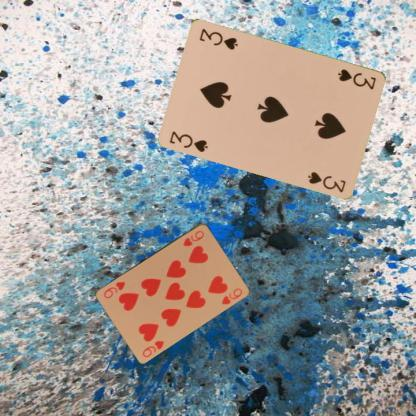3s: (335, 66, 378, 91), (167, 128, 210, 153)
9h: (140, 338, 165, 358), (180, 228, 206, 247)
